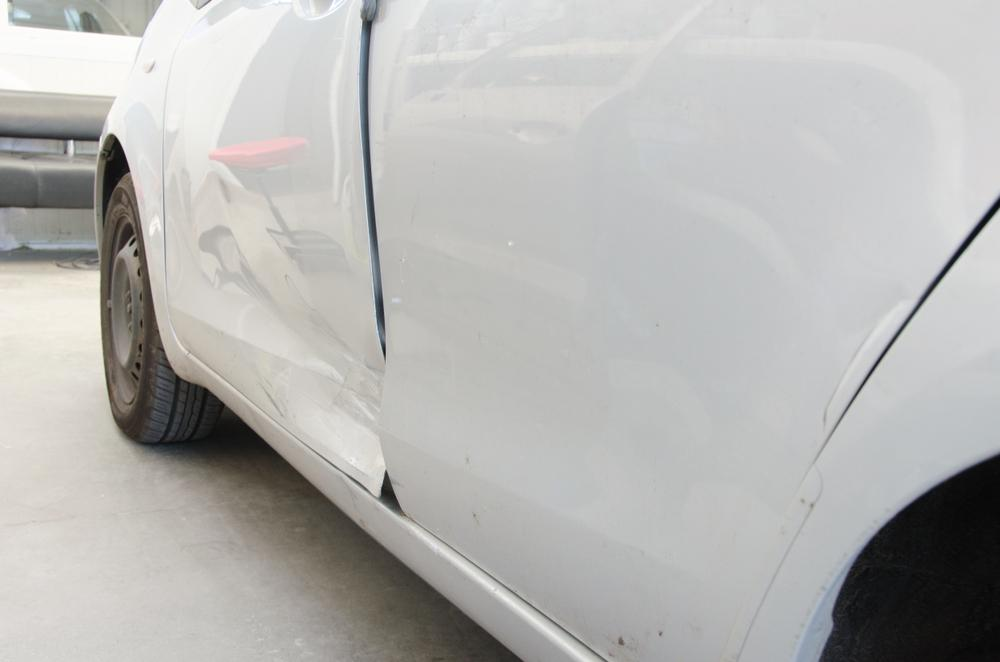dent: (165, 173, 386, 484)
